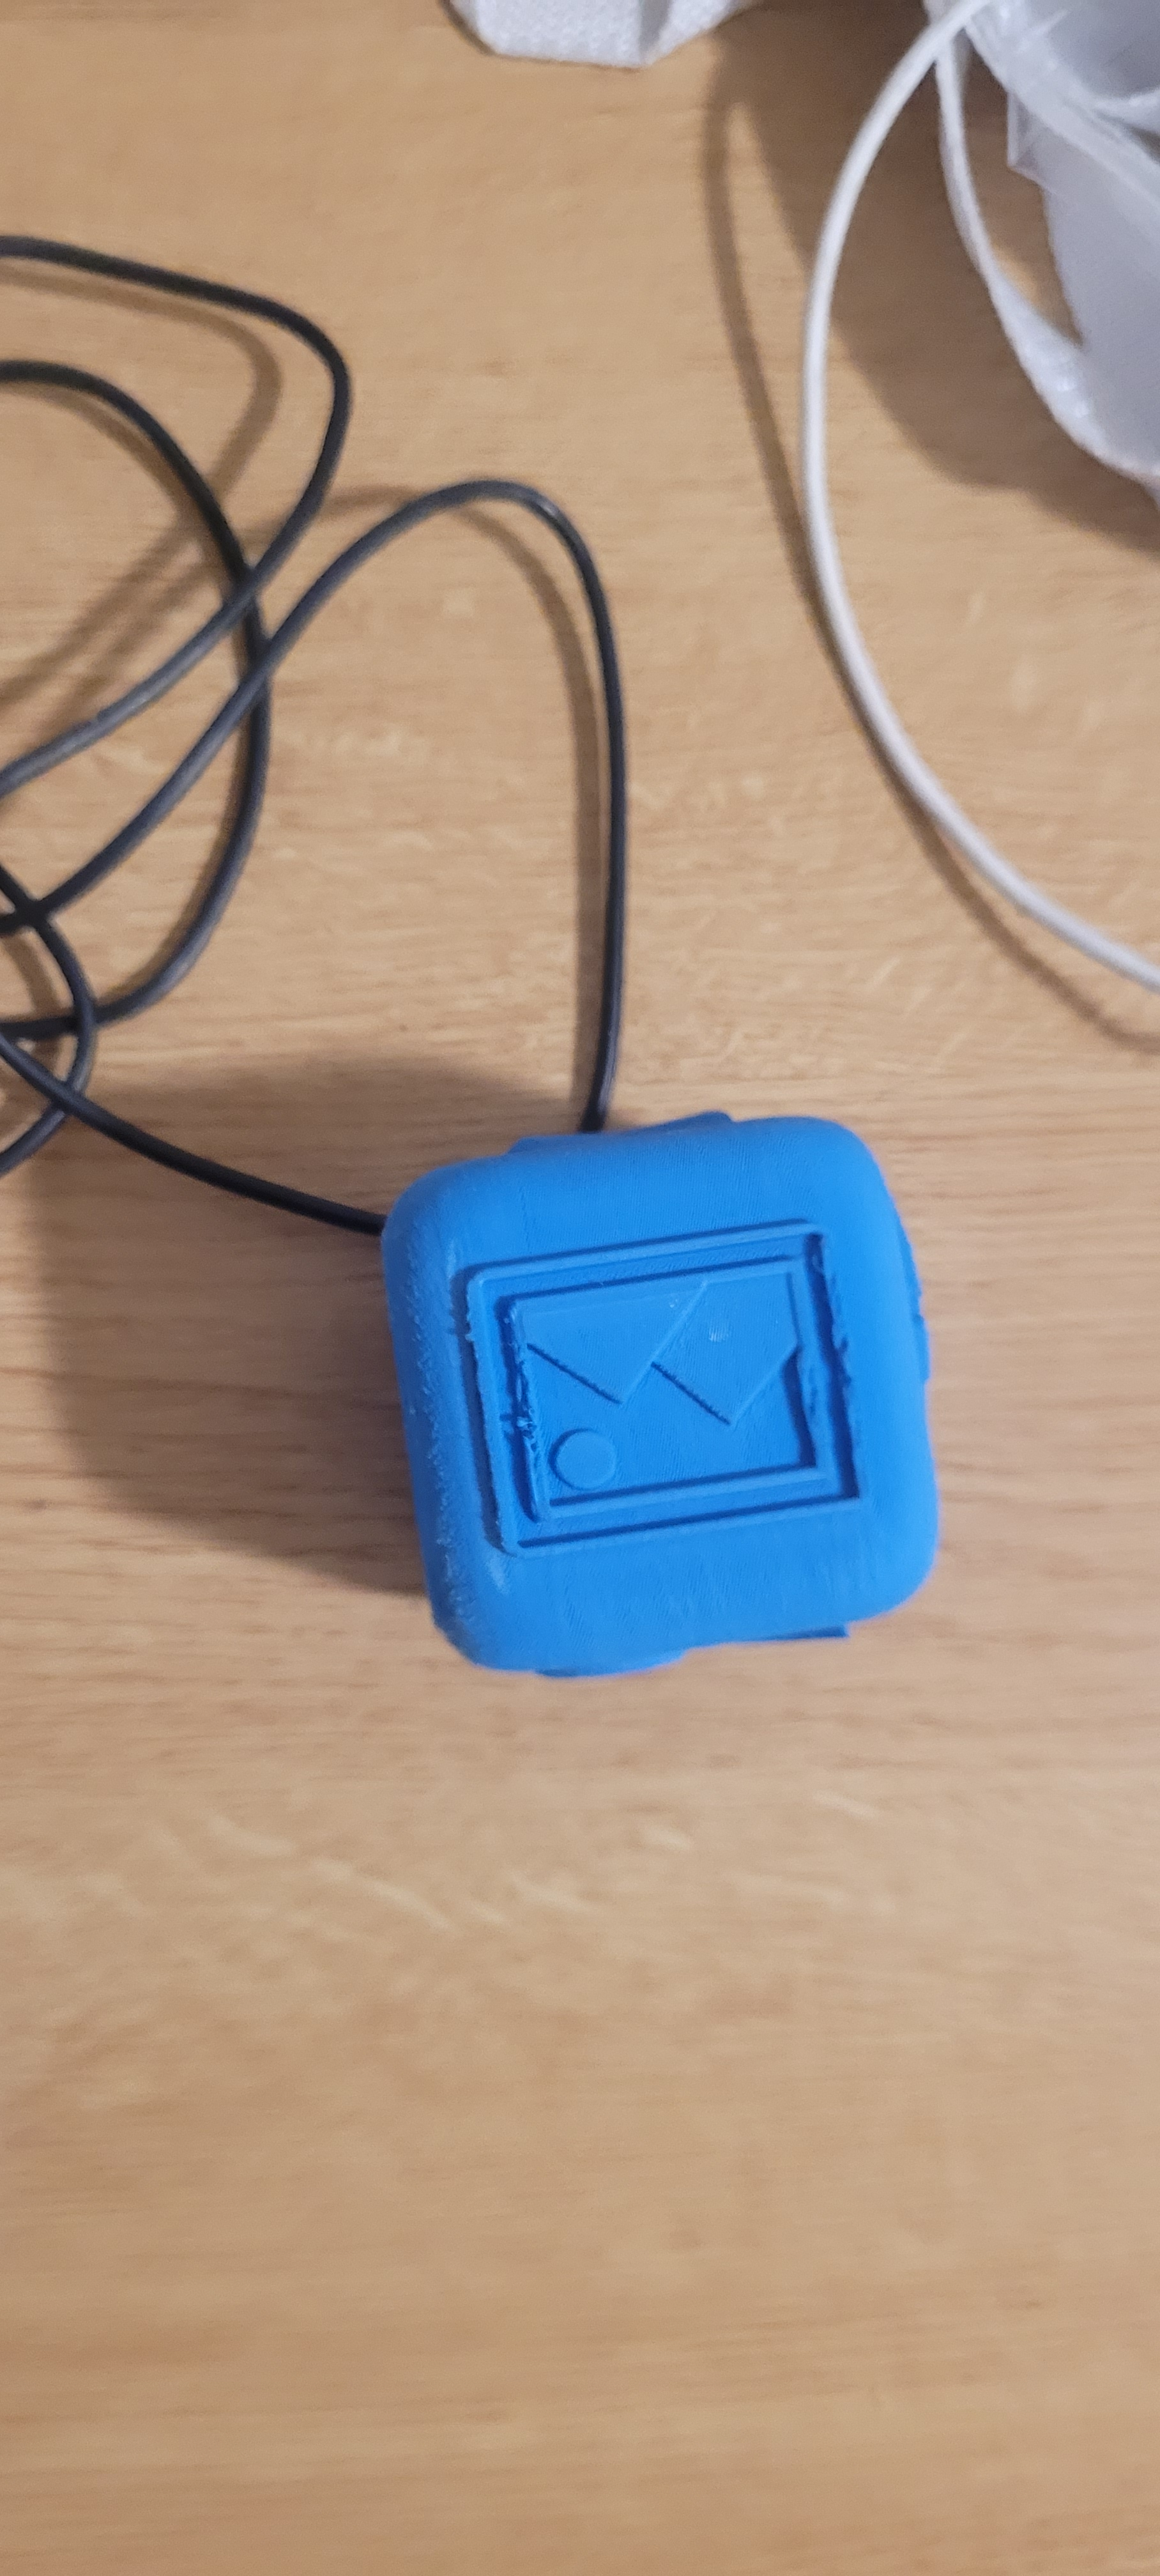Story: (419, 1211, 887, 1562)
